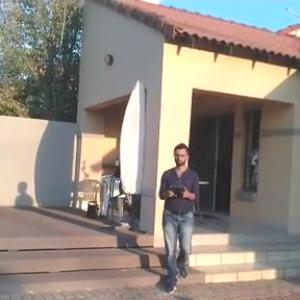follow: (155, 139, 200, 297)
